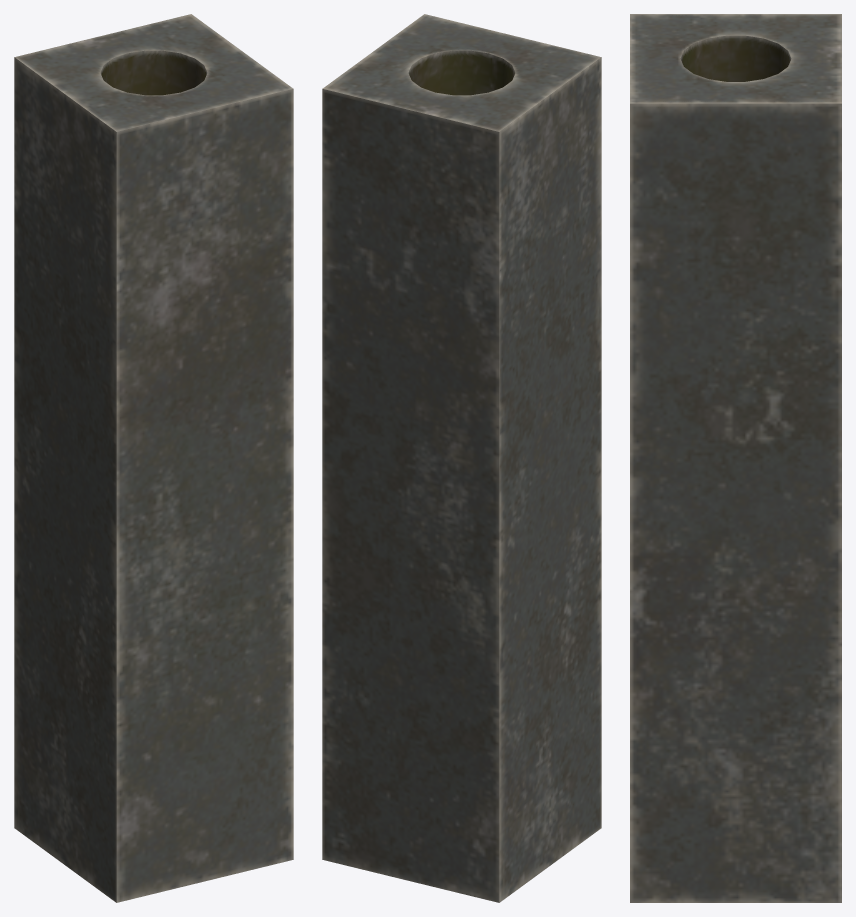
The model's file is JT_Gy_Prp_FlowerStand_01.fbx.
3 renders of one model, left to right at view 1: azimuth 30°, elevation 25°; view 2: azimuth 150°, elevation 25°; view 3: azimuth 270°, elevation 25°, orthographic. The views are drawn at different scales.
Parts seen in each view (by area): view 1: JT_Gy_Prp_FlowerStand_01, JT_Gy_Prp_FlowerStand_01_LOD0; view 2: JT_Gy_Prp_FlowerStand_01, JT_Gy_Prp_FlowerStand_01_LOD0; view 3: JT_Gy_Prp_FlowerStand_01, JT_Gy_Prp_FlowerStand_01_LOD0.
Boxes of the visible parts, bbox=[...] form: JT_Gy_Prp_FlowerStand_01: bbox=[14, 14, 293, 902]; JT_Gy_Prp_FlowerStand_01_LOD0: bbox=[14, 14, 293, 902]; JT_Gy_Prp_FlowerStand_01: bbox=[322, 14, 601, 902]; JT_Gy_Prp_FlowerStand_01_LOD0: bbox=[322, 15, 601, 902]; JT_Gy_Prp_FlowerStand_01: bbox=[630, 14, 841, 902]; JT_Gy_Prp_FlowerStand_01_LOD0: bbox=[630, 14, 841, 902].
Size of what is drawn, in the model's own units: 0.2402 by 1 by 0.2402.
